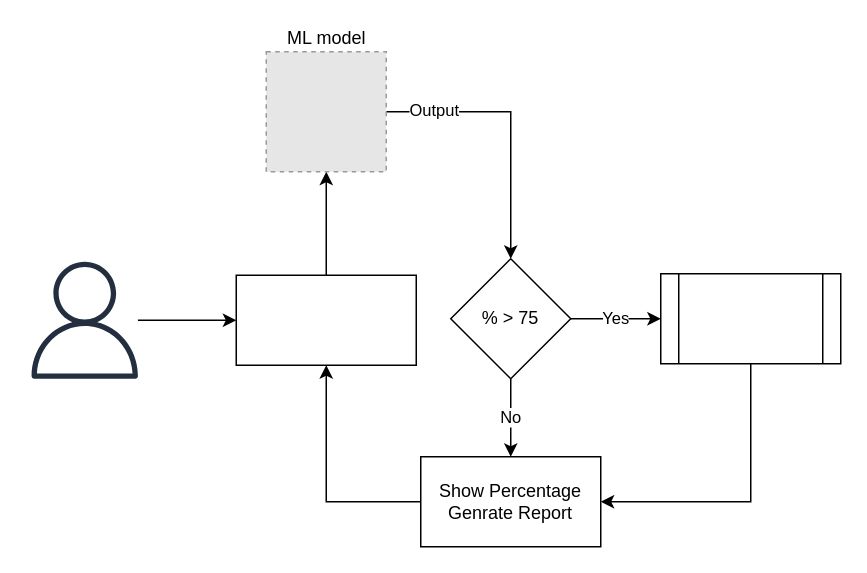
This 867x573 diagram has some shape labels left out. Grey dashed boxes stand in for pictures. The centre of each missing label's shape, as x and y in pixels:
Scanning: the point at 325,319
Turn Off Network: the point at 750,318
